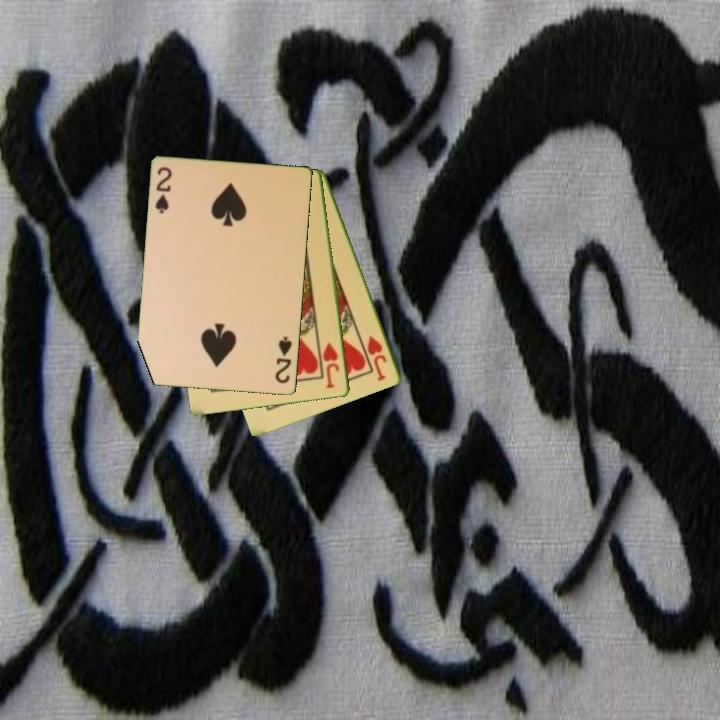2s: (272, 333, 295, 386), (152, 164, 175, 216)
Jh: (364, 332, 390, 384), (320, 339, 342, 391)
